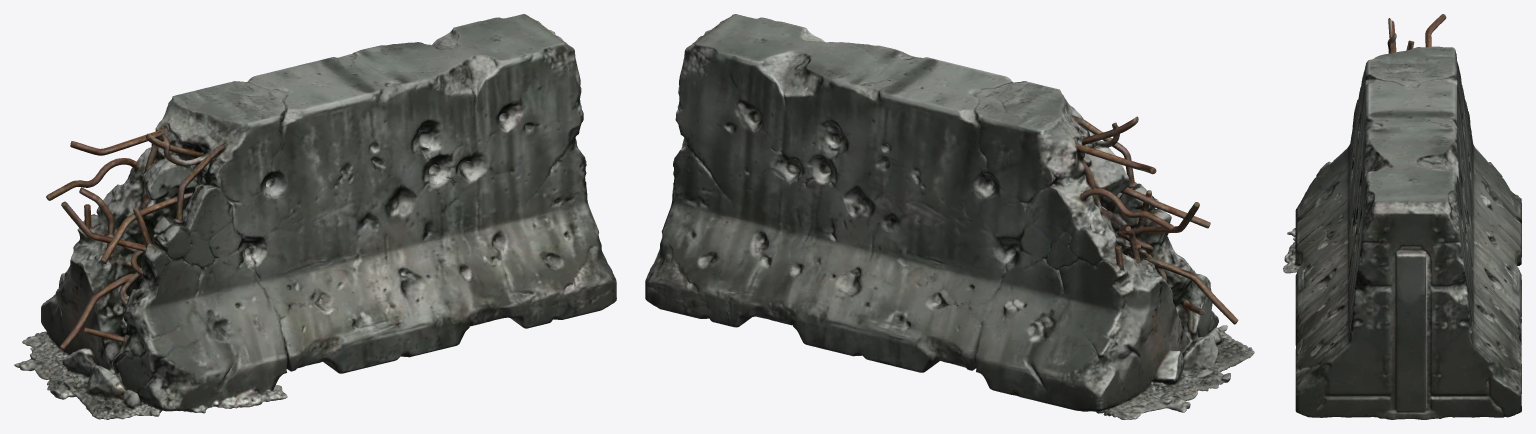
The model's file is barricade.glb.
3 views of the same model, side by side, from view 1: azimuth 30°, elevation 25°; view 2: azimuth 150°, elevation 25°; view 3: azimuth 270°, elevation 25° (orthographic). The views are drawn at different scales.
Bounding box in the file's own units: 1.9 × 0.8494 × 0.833.
Materials: 1 (1 with a texture image).
